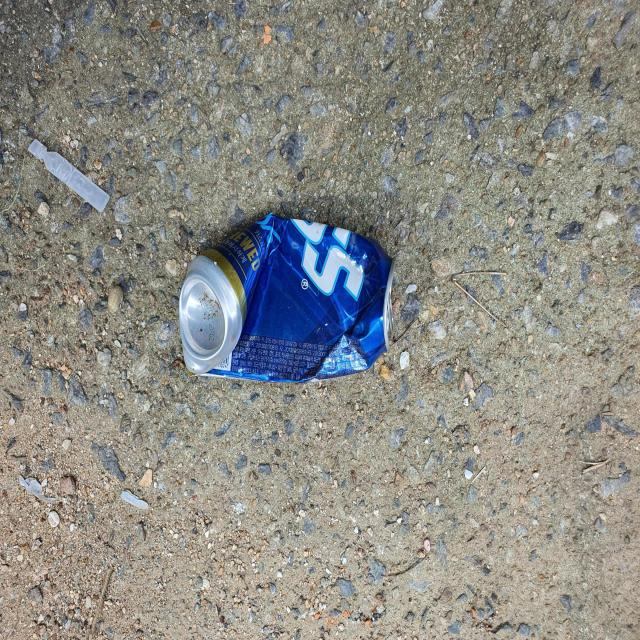can: (178, 213, 395, 382)
